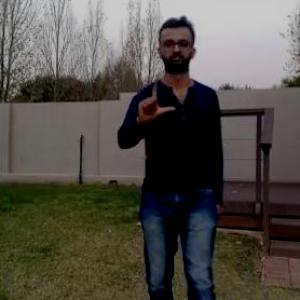land_hand: (130, 70, 176, 124)
